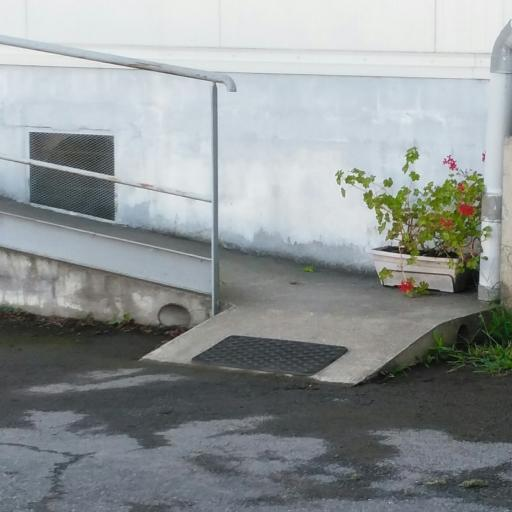ramp: (135, 306, 438, 390)
